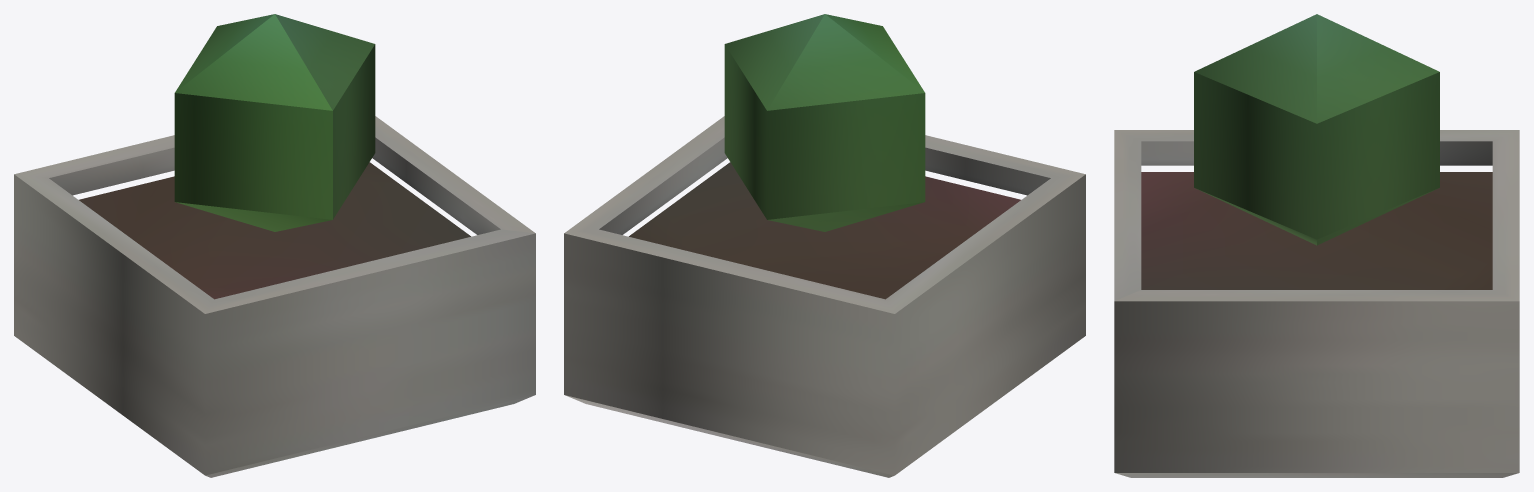
Rendered from jardiniere_beton_lod2.glb.
The picture shows the model from 3 angles, left to right: view 1: azimuth 30°, elevation 25°; view 2: azimuth 150°, elevation 25°; view 3: azimuth 270°, elevation 25°; orthographic projection. The views are drawn at different scales.
Visible parts, largest first — view 1: jardiniere_beton; view 2: jardiniere_beton; view 3: jardiniere_beton.
Boxes of the visible parts, x1,y1,x2,y2 form: jardiniere_beton: [14, 14, 535, 477]; jardiniere_beton: [564, 14, 1085, 477]; jardiniere_beton: [1114, 14, 1519, 477].
Size of the model in its own units: 1.2 by 1.26 by 1.2.
Materials: 1 (1 with a texture image).
